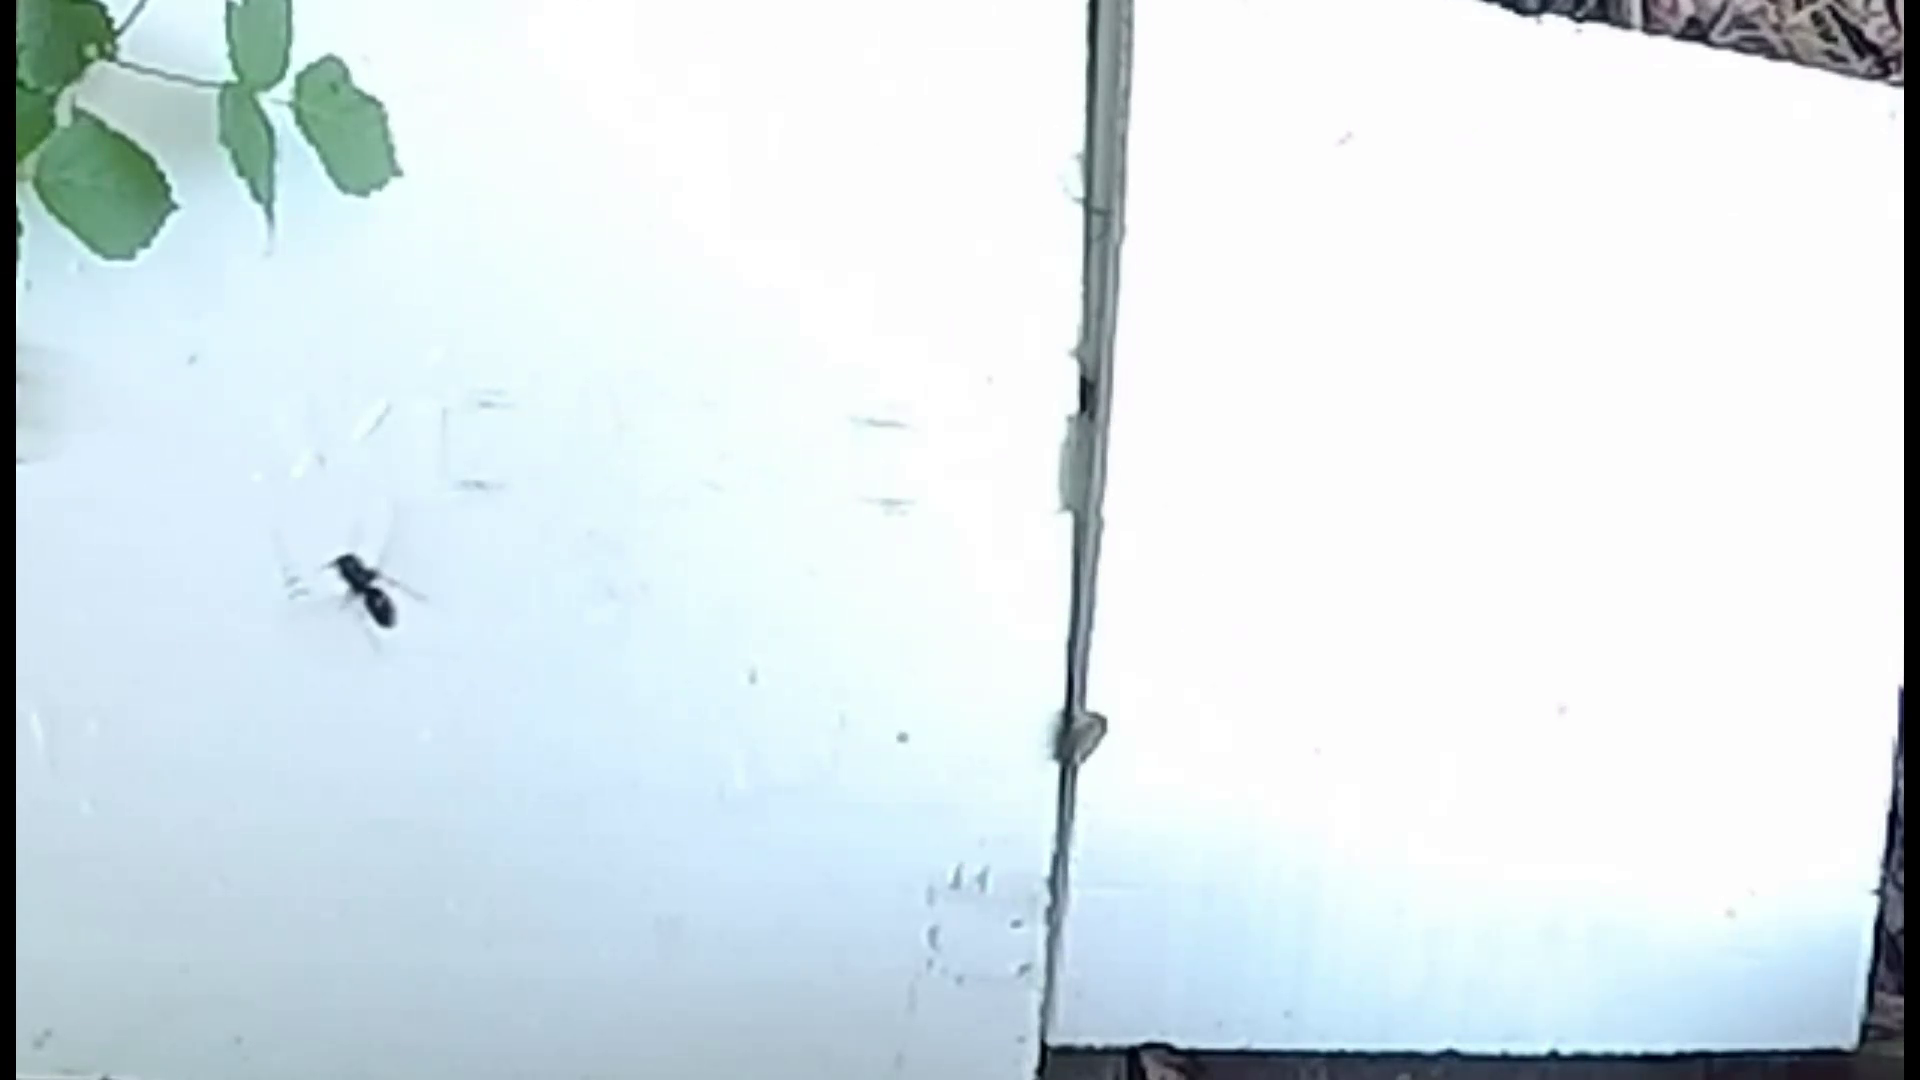Asian_hornets: (306, 513, 436, 658)
